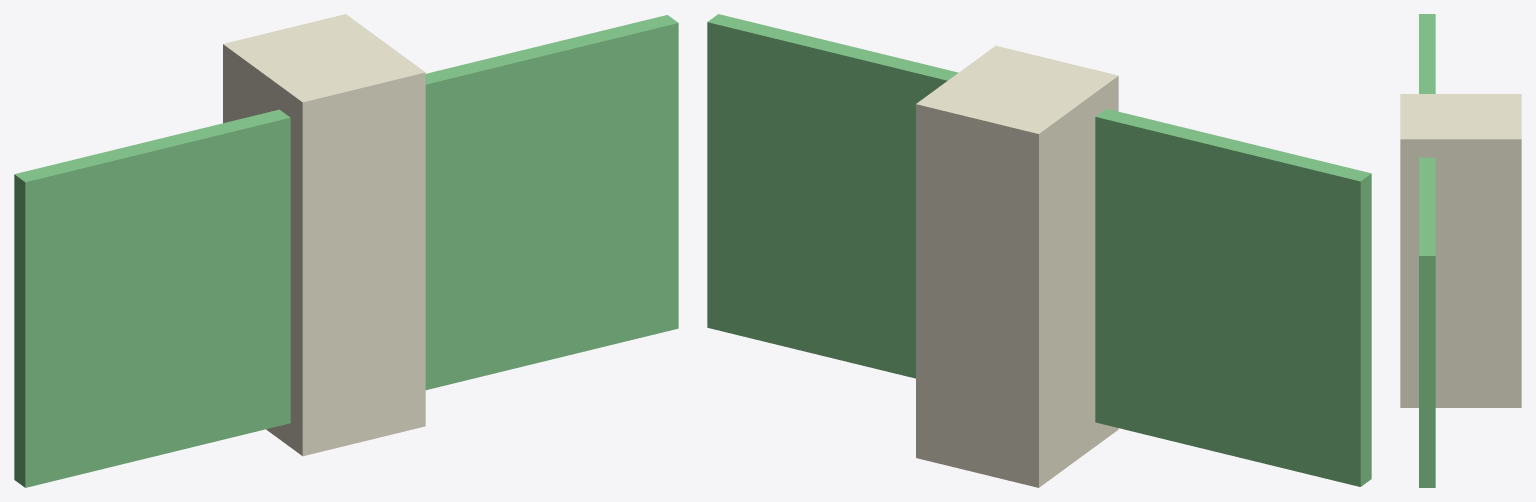
The model's file is pickup_cash_bundle.glb.
3 views of the same model, side by side, from view 1: azimuth 30°, elevation 25°; view 2: azimuth 150°, elevation 25°; view 3: azimuth 270°, elevation 25° (orthographic). The views are drawn at different scales.
Parts seen in each view (by area): view 1: cash_note, cash_band; view 2: cash_note, cash_band; view 3: cash_band, cash_note.
Boxes of the visible parts, left/top/right/bottom form: cash_note: left=14, top=15, right=678, bottom=487; cash_band: left=223, top=14, right=425, bottom=456; cash_note: left=707, top=14, right=1371, bottom=486; cash_band: left=916, top=45, right=1118, bottom=487; cash_band: left=1400, top=94, right=1521, bottom=407; cash_note: left=1419, top=14, right=1435, bottom=487.
Size of the model in its own units: 0.85 by 0.44 by 0.18.
